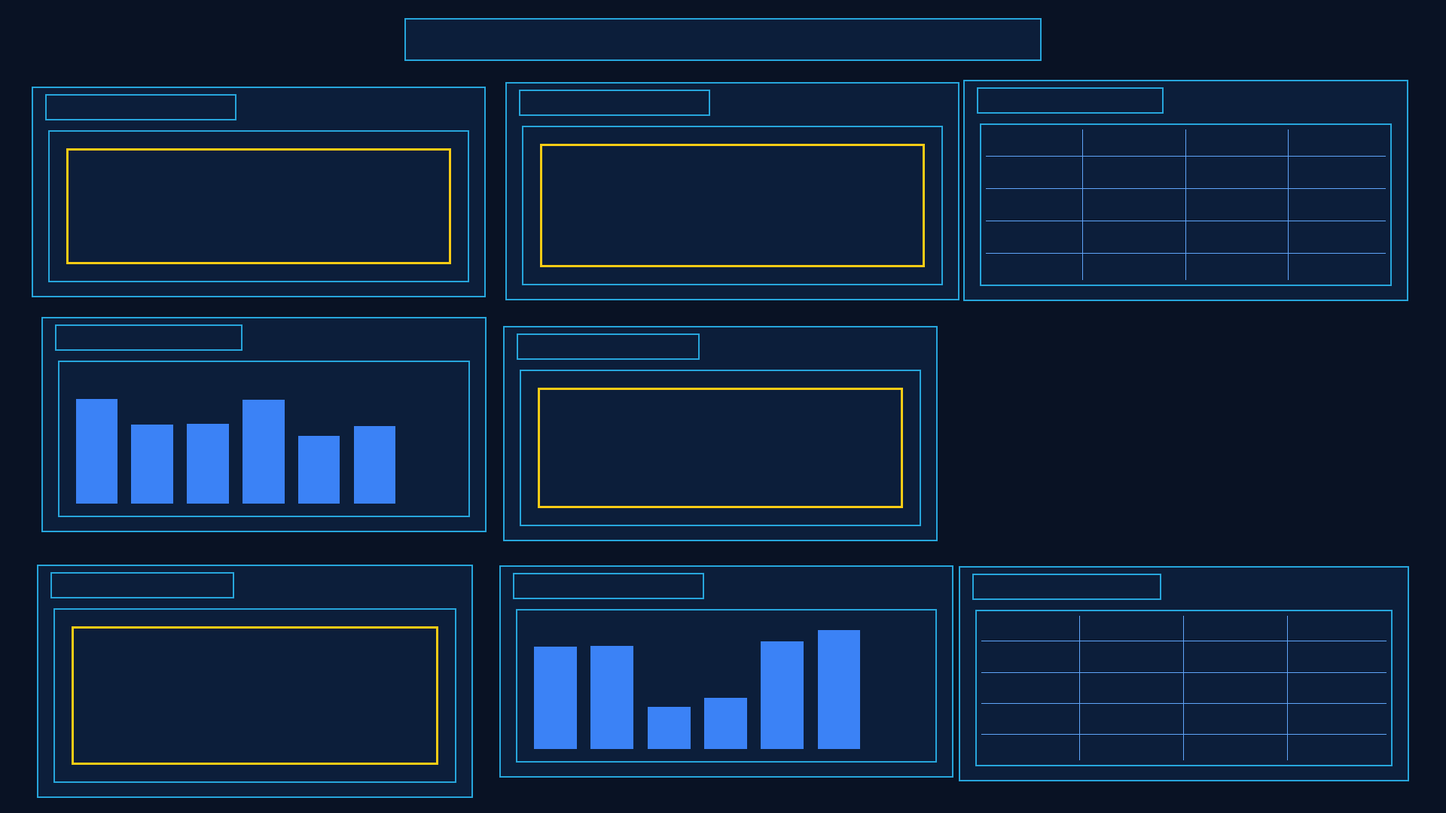Chart: (58, 361, 470, 517), (516, 609, 936, 762)
MetricCard: (53, 608, 456, 782), (522, 126, 942, 285), (48, 130, 469, 282), (520, 370, 921, 526)
Panel: (37, 565, 473, 797), (506, 82, 959, 300), (963, 80, 1408, 301), (959, 566, 1408, 781), (41, 317, 486, 532), (500, 566, 953, 777), (32, 87, 486, 297), (504, 326, 937, 541)
Table: (980, 123, 1391, 286), (976, 610, 1392, 766)
Title: (405, 18, 1041, 60), (45, 94, 236, 120), (513, 573, 704, 599), (977, 87, 1164, 113), (55, 325, 242, 351), (519, 90, 710, 115), (50, 572, 233, 598), (517, 334, 699, 360), (973, 574, 1161, 599)
